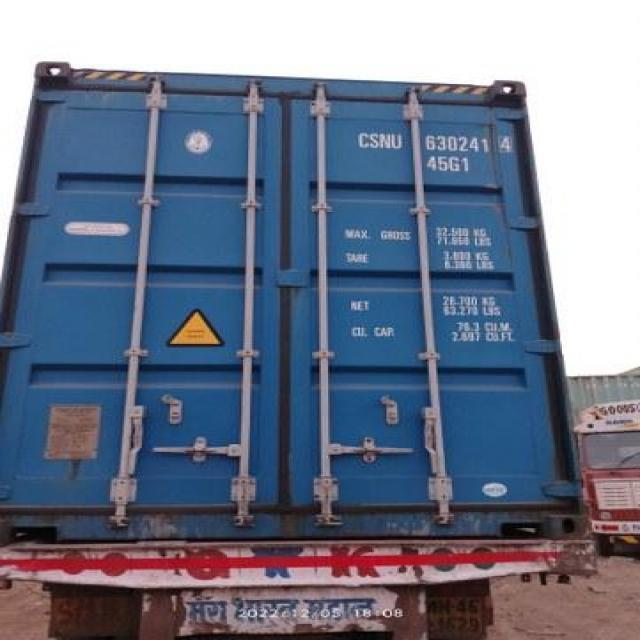container_number_h: (337, 116, 526, 191)
